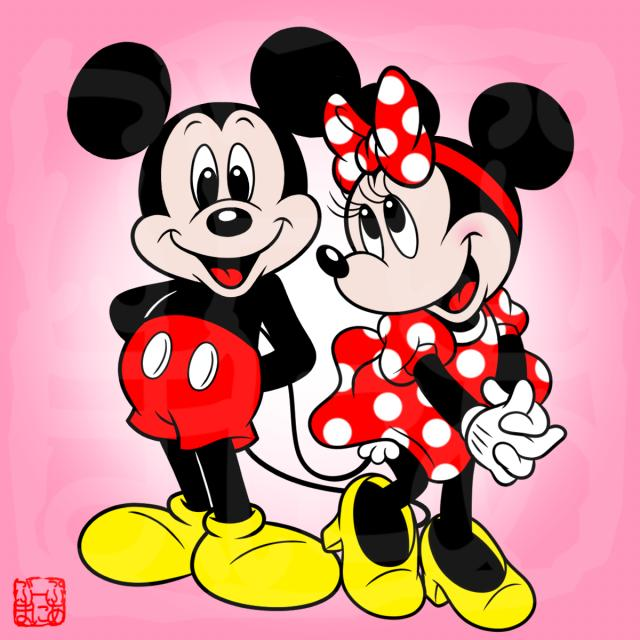mickey: (75, 33, 326, 580)
